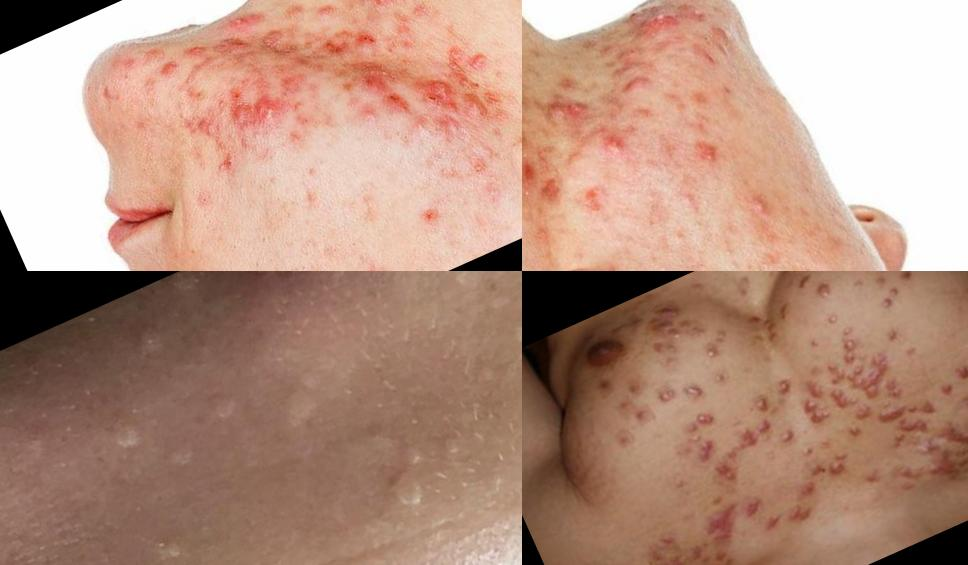acne_scars: (459, 78, 513, 133), (544, 84, 598, 129), (251, 24, 302, 71), (699, 15, 742, 60), (271, 67, 311, 107)
blackhead: (183, 170, 239, 232), (329, 220, 382, 272), (613, 28, 657, 71), (289, 250, 335, 272)
flat_wart: (376, 436, 457, 528), (279, 523, 416, 565), (101, 381, 168, 461), (121, 304, 199, 369), (189, 369, 264, 433), (139, 513, 205, 565)
keloid: (635, 490, 765, 565), (820, 342, 914, 423), (787, 416, 873, 471), (890, 440, 968, 500), (704, 423, 773, 488), (743, 385, 800, 452), (758, 494, 818, 542), (741, 303, 797, 354), (677, 404, 731, 453), (796, 376, 840, 436), (638, 295, 693, 343), (790, 272, 844, 315), (655, 373, 708, 415), (809, 447, 860, 490), (926, 355, 968, 407), (888, 414, 938, 453), (872, 400, 914, 432), (733, 489, 770, 525), (697, 339, 728, 368), (876, 285, 908, 313), (710, 367, 737, 394)
papular: (236, 272, 327, 311), (410, 196, 451, 236), (276, 1, 315, 34), (154, 54, 190, 87), (182, 34, 217, 65), (314, 1, 346, 27), (370, 1, 403, 17)
purulent: (741, 177, 780, 227), (457, 146, 500, 188), (597, 124, 635, 161)
sebo-crystan-conglo: (343, 51, 419, 141), (311, 11, 397, 77), (220, 78, 292, 147), (212, 1, 282, 52), (409, 64, 466, 126), (684, 124, 738, 180), (465, 43, 507, 84)
whitehead: (156, 86, 205, 146), (711, 234, 752, 272)
